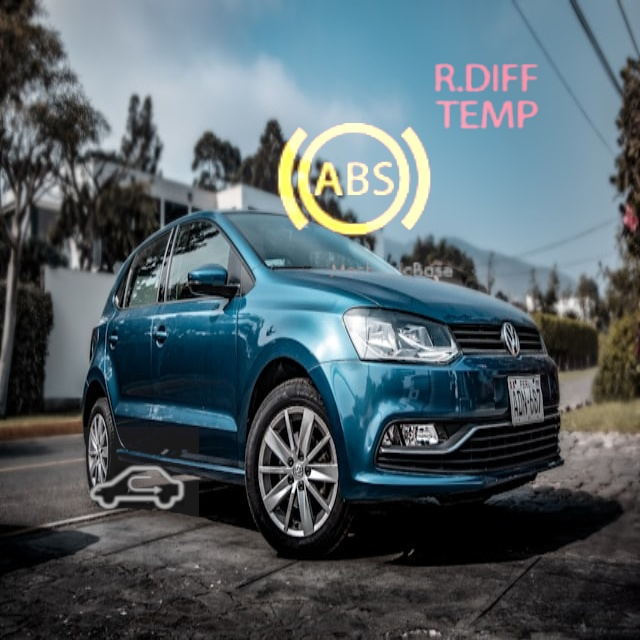symbol: (246, 73, 461, 288), (410, 21, 564, 175), (75, 427, 199, 551)
